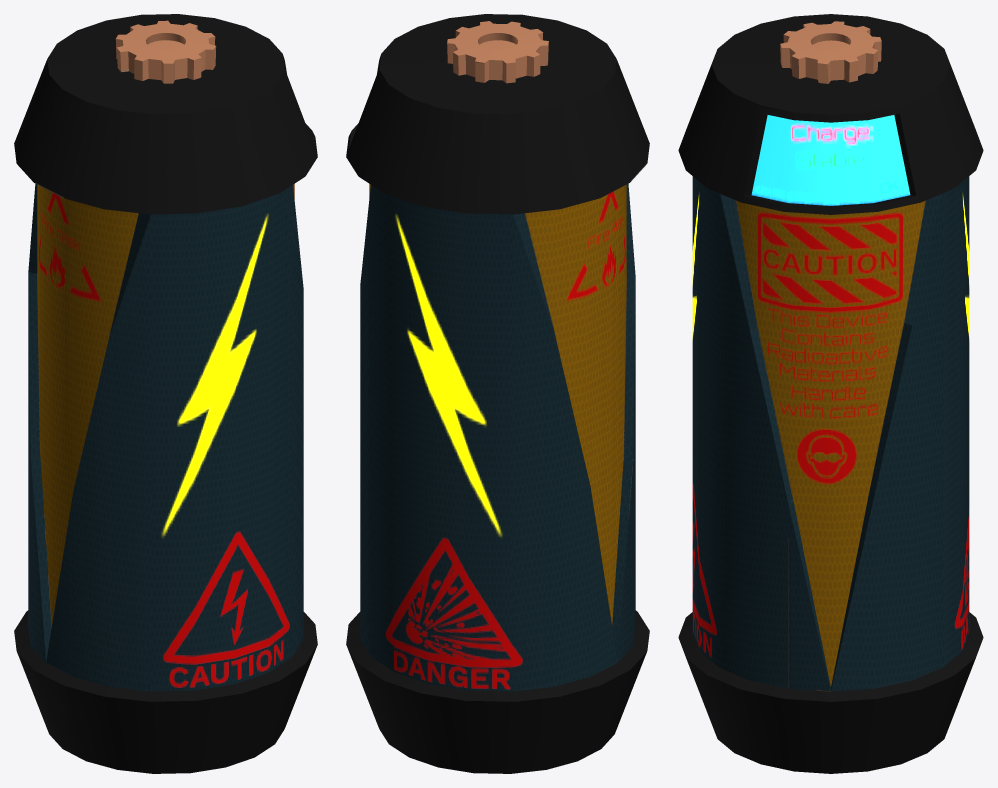
The model's file is FusionBattery.fbx.
3 views of the same model, side by side, from view 1: azimuth 30°, elevation 25°; view 2: azimuth 150°, elevation 25°; view 3: azimuth 270°, elevation 25° (orthographic).
Parts seen in each view (by area): view 1: Micro Fission Battery; view 2: Micro Fission Battery; view 3: Micro Fission Battery.
Part boxes in pixels (<box>): Micro Fission Battery: <box>14,14,317,773</box>; Micro Fission Battery: <box>346,14,649,773</box>; Micro Fission Battery: <box>678,14,983,773</box>.
Bounding box in the file's own units: 221 × 546 × 221.
